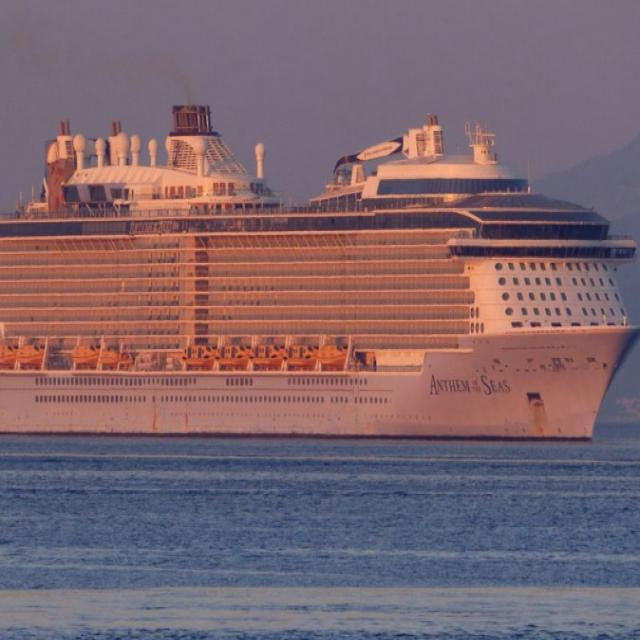cruises: (1, 98, 640, 447)
